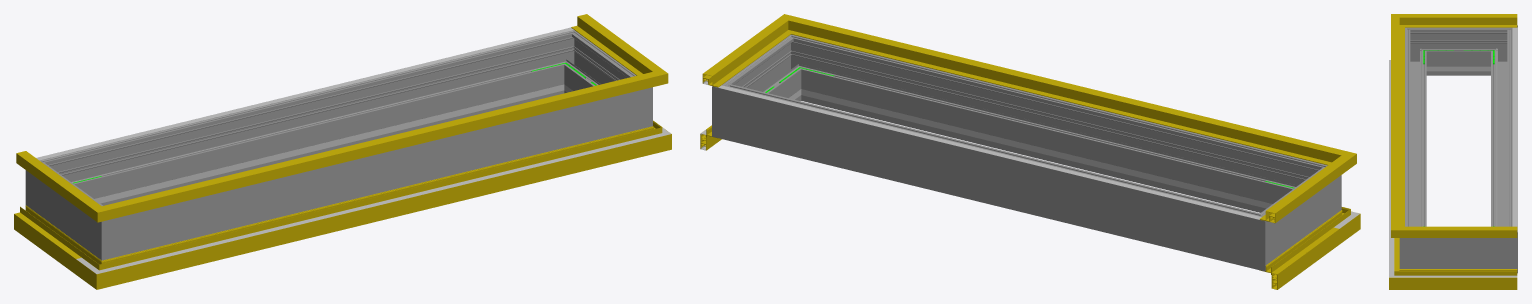
3 views of the same model, side by side, from view 1: azimuth 30°, elevation 25°; view 2: azimuth 150°, elevation 25°; view 3: azimuth 270°, elevation 25° (orthographic). The views are drawn at different scales.
Visible parts, largest first — view 1: 3DGeom-276, 3DGeom-298, 3DGeom-90, 3DGeom-123, 3DGeom-244, 3DGeom-270, 3DGeom-220, 3DGeom-100, 3DGeom-85, 3DGeom-284, 3DGeom-128, 3DGeom-290 (+8 smaller); view 2: 3DGeom-298, 3DGeom-276, 3DGeom-123, 3DGeom-239, 3DGeom-278, 3DGeom-284, 3DGeom-220, 3DGeom-85, 3DGeom-290, 3DGeom-128, 3DGeom-297, 3DGeom-118 (+5 smaller); view 3: 3DGeom-298, 3DGeom-276, 3DGeom-123, 3DGeom-268, 3DGeom-97, 3DGeom-297, 3DGeom-118, 3DGeom-220, 3DGeom-128, 3DGeom-284, 3DGeom-290, 3DGeom-278 (+10 smaller).
Boxes of the visible parts, x1,y1,x2,y2 form: 3DGeom-276: [65, 37, 558, 205]; 3DGeom-298: [137, 96, 616, 251]; 3DGeom-90: [126, 132, 635, 280]; 3DGeom-123: [128, 78, 632, 213]; 3DGeom-244: [107, 93, 529, 201]; 3DGeom-270: [81, 198, 137, 260]; 3DGeom-220: [36, 27, 573, 160]; 3DGeom-100: [130, 140, 635, 265]; 3DGeom-85: [14, 205, 87, 274]; 3DGeom-284: [544, 30, 591, 94]; 3DGeom-128: [571, 14, 646, 71]; 3DGeom-290: [617, 68, 652, 134]; 3DGeom-298: [807, 42, 1301, 212]; 3DGeom-276: [748, 90, 1235, 262]; 3DGeom-123: [811, 23, 1320, 161]; 3DGeom-239: [836, 97, 1259, 206]; 3DGeom-278: [1229, 203, 1285, 271]; 3DGeom-284: [712, 72, 754, 145]; 3DGeom-220: [718, 85, 1261, 219]; 3DGeom-85: [1260, 220, 1339, 289]; 3DGeom-290: [773, 34, 820, 101]; 3DGeom-128: [702, 29, 779, 87]; 3DGeom-297: [739, 47, 797, 100]; 3DGeom-118: [1259, 166, 1335, 223]; 3DGeom-298: [1405, 39, 1426, 226]; 3DGeom-276: [1491, 39, 1512, 226]; 3DGeom-123: [1391, 27, 1404, 223]; 3DGeom-268: [1432, 27, 1485, 75]; 3DGeom-97: [1421, 269, 1517, 289]; 3DGeom-297: [1432, 238, 1485, 268]; 3DGeom-118: [1423, 14, 1517, 27]; 3DGeom-220: [1512, 27, 1517, 232]; 3DGeom-128: [1423, 226, 1517, 237]; 3DGeom-284: [1485, 220, 1517, 273]; 3DGeom-290: [1399, 220, 1431, 268]; 3DGeom-278: [1485, 25, 1517, 75].
Bounding box in the file's own units: 2.44 × 0.3069 × 0.6096.
